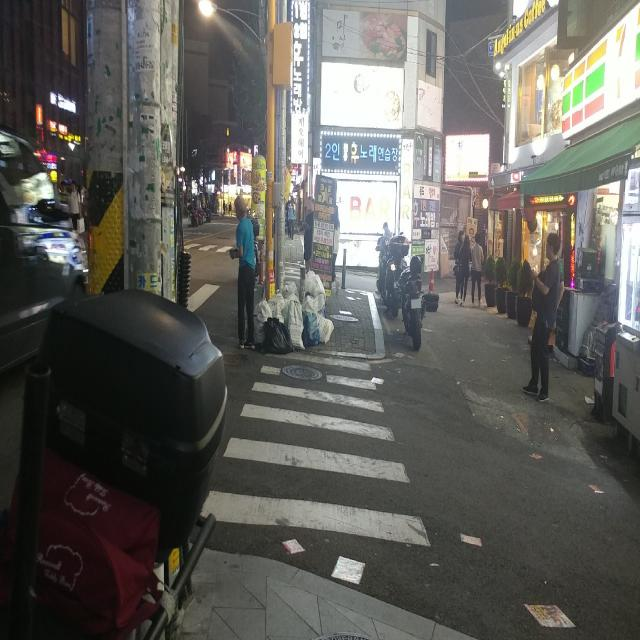횡단보도: (198, 349, 434, 550)
